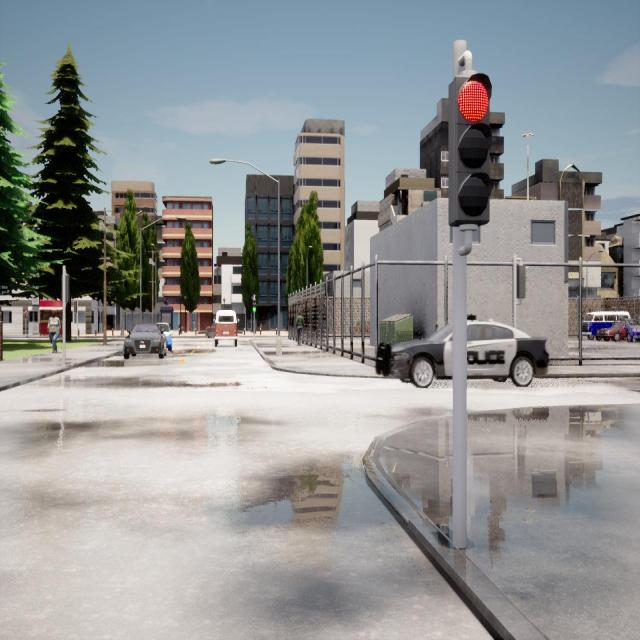Pedestrian: (48, 311, 61, 354), (296, 311, 304, 346)
Traffic_Signs: (24, 310, 28, 318)
Vehicle: (390, 320, 549, 388), (124, 324, 167, 358), (583, 312, 629, 339), (214, 310, 237, 346), (597, 322, 626, 342), (156, 323, 172, 352), (622, 318, 640, 343)
traffic_light: (448, 80, 492, 223), (516, 264, 526, 299), (66, 274, 70, 302), (252, 298, 256, 312)
